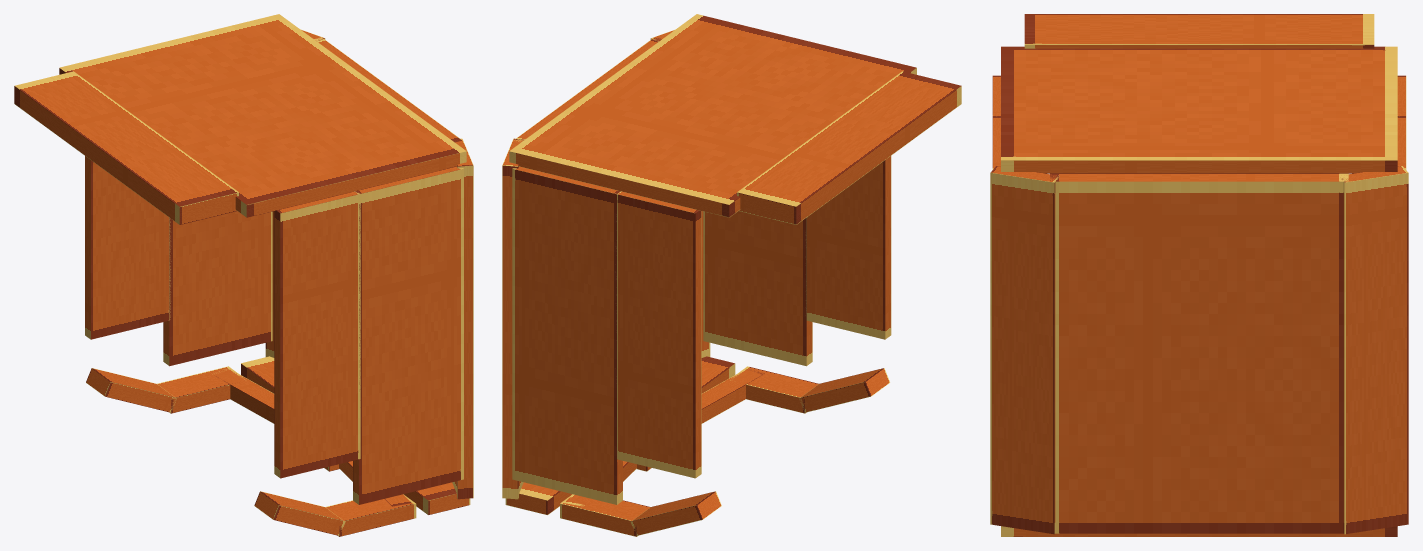
The model's file is bench_helmet_5_hot.obj.
3 views of the same model, side by side, from view 1: azimuth 30°, elevation 25°; view 2: azimuth 150°, elevation 25°; view 3: azimuth 270°, elevation 25° (orthographic). The views are drawn at different scales.
Visible parts, largest first — view 1: geometry; view 2: geometry; view 3: geometry.
Part boxes in pixels (x1,y1,x2,y2): geometry: (14,14,473,536); geometry: (502,14,961,536); geometry: (990,14,1408,536).
Bounding box in the file's own units: 0.2162 × 0.25 × 0.2493.
